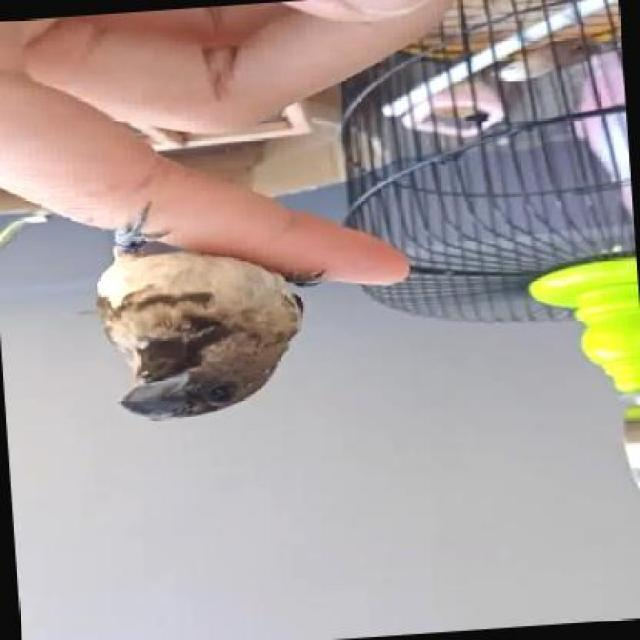Bird: (85, 240, 327, 482)
